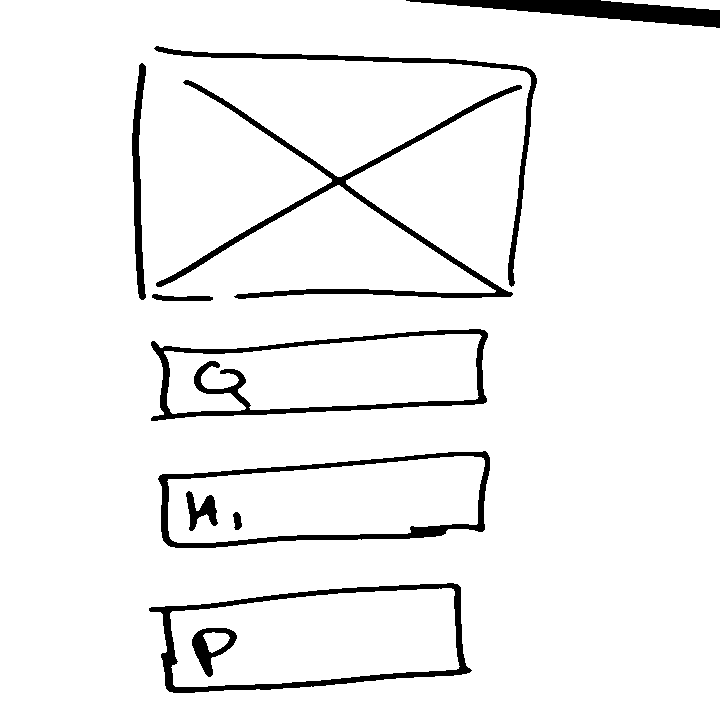heading1: (150, 445, 497, 552)
paragraph: (144, 579, 483, 697)
picture: (121, 35, 540, 315)
search bar: (134, 326, 494, 426)
